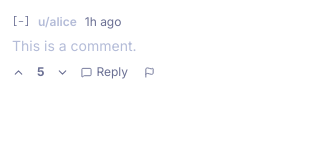
Test case: CommentNode voting › optimistically increments vote count on upvote
Click the button named "upvote comment": (18, 72) x1=12 y1=66 x2=25 y2=78
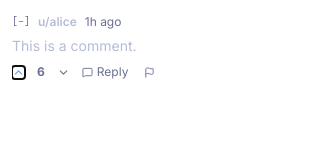
Now the text "6" is shown, box x1=37 y1=64 x2=45 y2=80
